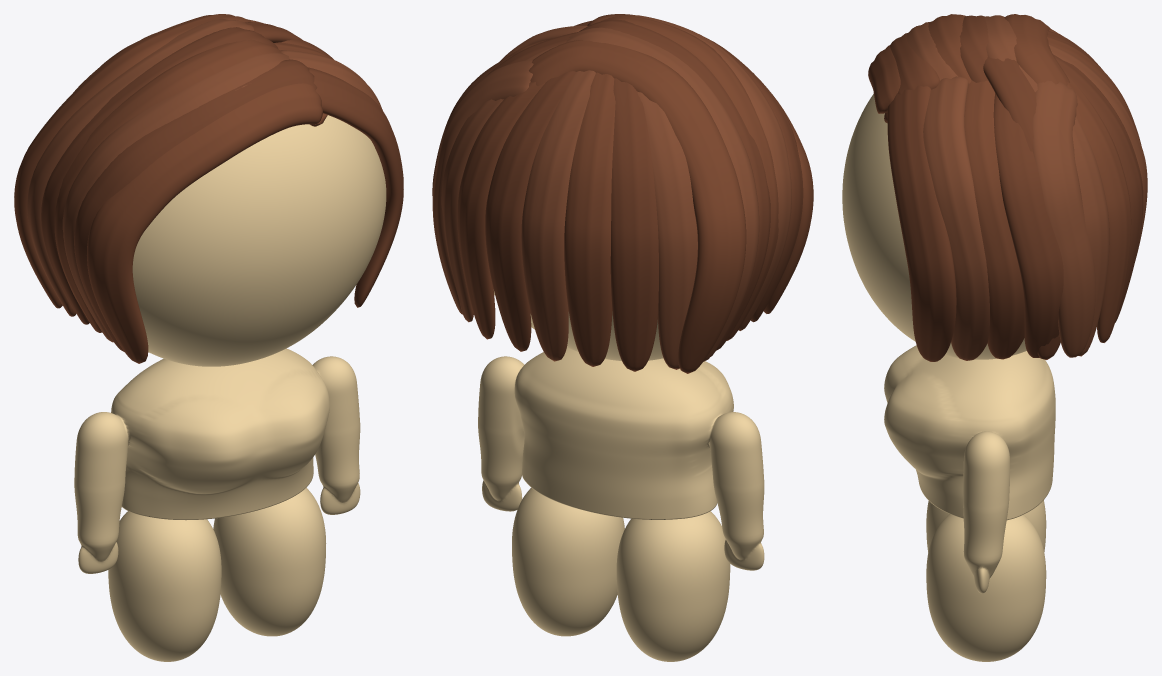
The model's file is Feminine-hands-paddle-base.glb.
The picture shows the model from 3 angles, left to right: view 1: azimuth 30°, elevation 25°; view 2: azimuth 150°, elevation 25°; view 3: azimuth 270°, elevation 25°; orthographic projection.
Visible parts, largest first — view 1: Skin / soft oval head, Skin / rounded torso, Hair / Bob / side sweep 0, Skin / leg blob -1, Skin / leg blob 1, Hair / Bob / side sweep 1, Hair / Bob / side sweep 2, Hair / Bob / side sweep 3, Hair / Bob / side sweep 7, Hair / Bob / side sweep 6, Hair / Bob / side sweep 5, Hair / Bob / side sweep 4 (+2 smaller); view 2: Skin / rounded torso, Hair / Bob / side sweep 6, Skin / leg blob -1, Skin / leg blob 1, Hair / Bob / side sweep 19, Hair / Bob / side sweep 18, Hair / Bob / side sweep 17, Hair / Bob / side sweep 16, Hair / Bob / side sweep 20, Hair / Bob / side sweep 15, Hair / Bob / side sweep 5, Hair / Bob / side sweep 3 (+9 smaller); view 3: Skin / rounded torso, Skin / leg blob 1, Hair / Bob / side sweep 7, Skin / soft oval head, Hair / Bob / side sweep 8, Hair / Bob / side sweep 11, Hair / Bob / side sweep 10, Hair / Bob / side sweep 9, Hair / Bob / side sweep 15, Hair / Bob / side sweep 14, Hair / Bob / side sweep 16, Hair / Bob / side sweep 13 (+10 smaller).
Part boxes in pixels (box(x1,y1,x2,y2)): Skin / soft oval head: box(132, 115, 386, 366); Skin / rounded torso: box(74, 348, 360, 573); Hair / Bob / side sweep 0: box(87, 83, 327, 363); Skin / leg blob -1: box(108, 511, 221, 661); Skin / leg blob 1: box(213, 487, 326, 636); Hair / Bob / side sweep 1: box(74, 59, 317, 351); Hair / Bob / side sweep 2: box(62, 52, 289, 342); Hair / Bob / side sweep 3: box(54, 39, 281, 332); Hair / Bob / side sweep 7: box(308, 67, 403, 307); Hair / Bob / side sweep 6: box(14, 14, 250, 308); Hair / Bob / side sweep 5: box(27, 18, 253, 316); Hair / Bob / side sweep 4: box(41, 27, 278, 324); Skin / rounded torso: box(478, 347, 764, 570); Hair / Bob / side sweep 6: box(529, 40, 746, 373); Skin / leg blob -1: box(616, 511, 730, 661); Skin / leg blob 1: box(512, 487, 624, 636); Hair / Bob / side sweep 19: box(610, 78, 658, 371); Hair / Bob / side sweep 18: box(564, 72, 615, 366); Hair / Bob / side sweep 17: box(521, 70, 595, 361); Hair / Bob / side sweep 16: box(485, 71, 576, 351); Hair / Bob / side sweep 20: box(637, 91, 697, 369); Hair / Bob / side sweep 15: box(457, 82, 545, 339); Hair / Bob / side sweep 5: box(565, 27, 759, 361); Hair / Bob / side sweep 3: box(600, 15, 778, 340); Skin / rounded torso: box(884, 345, 1055, 593); Skin / leg blob 1: box(926, 514, 1046, 661); Hair / Bob / side sweep 7: box(887, 85, 956, 361); Skin / soft oval head: box(842, 93, 1026, 359); Hair / Bob / side sweep 8: box(923, 76, 989, 360); Hair / Bob / side sweep 11: box(1032, 80, 1095, 357); Hair / Bob / side sweep 10: box(993, 93, 1063, 357); Hair / Bob / side sweep 9: box(964, 80, 1024, 359); Hair / Bob / side sweep 15: box(1067, 76, 1131, 342); Hair / Bob / side sweep 14: box(1019, 65, 1109, 356); Hair / Bob / side sweep 16: box(1053, 54, 1143, 322); Hair / Bob / side sweep 13: box(983, 57, 1060, 359).
Bounding box in the file's own units: 1.02 × 1.86 × 0.8526.
